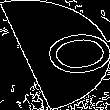O_W: (9, 27, 101, 83)
